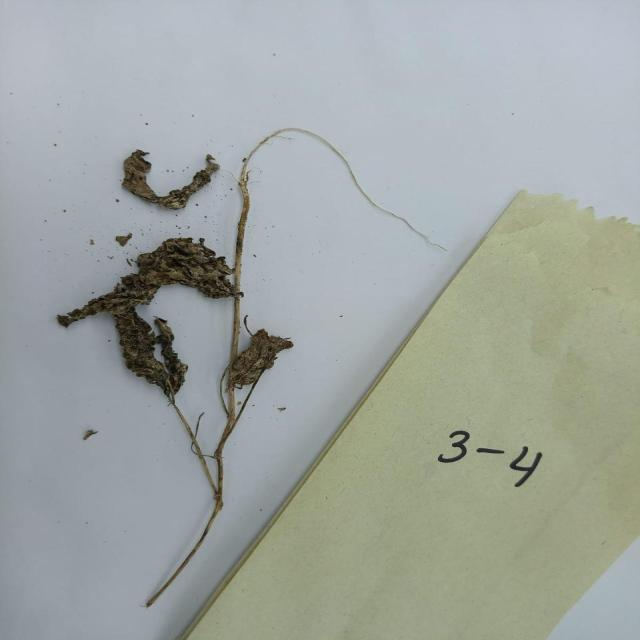Root: (226, 118, 274, 199)
Stem: (167, 400, 245, 600), (226, 197, 254, 330)
rooten_leaf: (54, 298, 197, 388), (156, 242, 238, 298), (147, 158, 228, 214), (110, 258, 186, 316), (229, 327, 289, 392), (121, 148, 159, 199), (115, 231, 132, 246)
